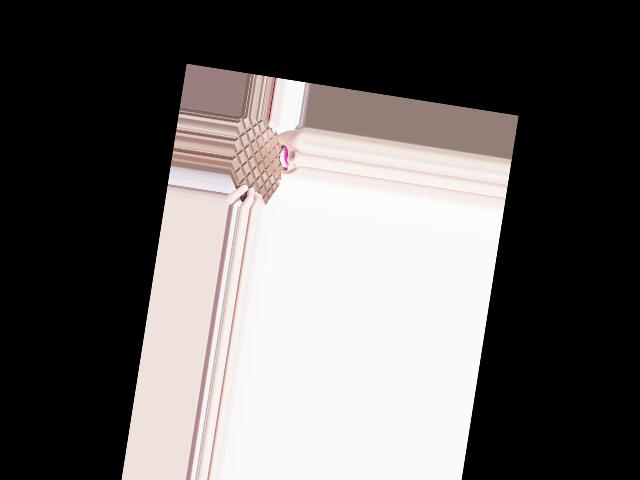chocolate: (225, 116, 291, 213)
